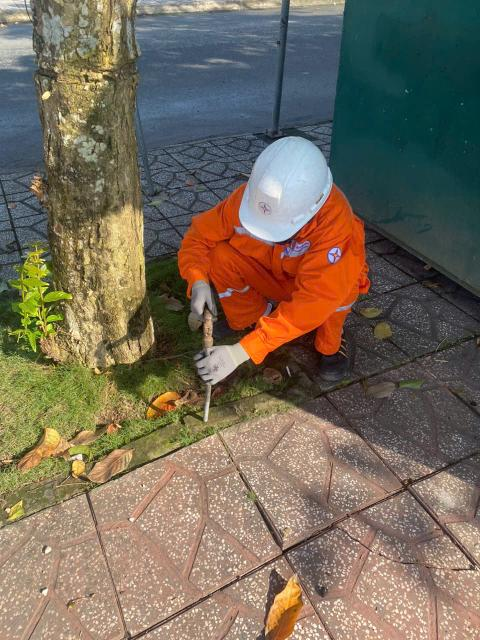gloves: (192, 340, 263, 386), (176, 273, 240, 322)
helmet: (219, 131, 341, 244)
shoes: (308, 328, 357, 387), (243, 300, 292, 343)
